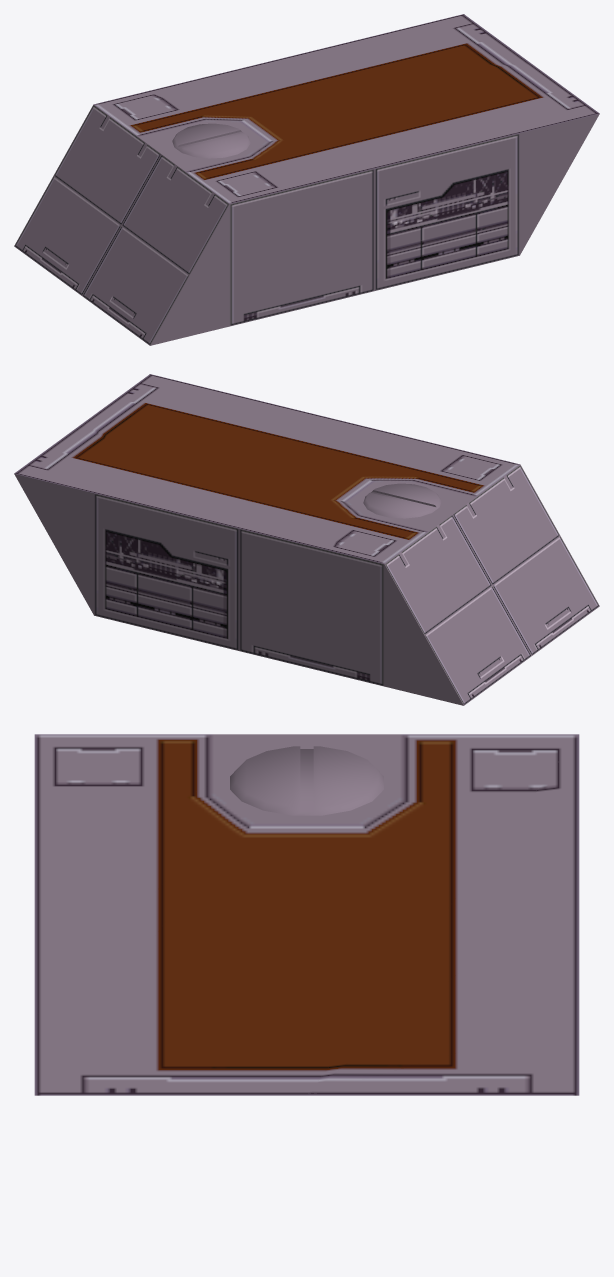
The picture shows the model from 3 angles, top to bottom: view 1: azimuth 30°, elevation 25°; view 2: azimuth 150°, elevation 25°; view 3: azimuth 270°, elevation 25°; orthographic projection. The views are drawn at different scales.
Visible parts, largest first — view 1: Joint_0_Object_0, Joint_0_Object_1; view 2: Joint_0_Object_0, Joint_0_Object_1; view 3: Joint_0_Object_0, Joint_0_Object_1.
Part boxes in pixels (<box>): Joint_0_Object_0: <box>14,14,599,345</box>; Joint_0_Object_1: <box>172,123,250,158</box>; Joint_0_Object_0: <box>14,374,599,705</box>; Joint_0_Object_1: <box>363,483,441,518</box>; Joint_0_Object_0: <box>34,734,579,1095</box>; Joint_0_Object_1: <box>230,746,383,815</box>.
Size of the model in its own units: 1217 by 325 by 638.
Materials: 2 (2 with a texture image).
